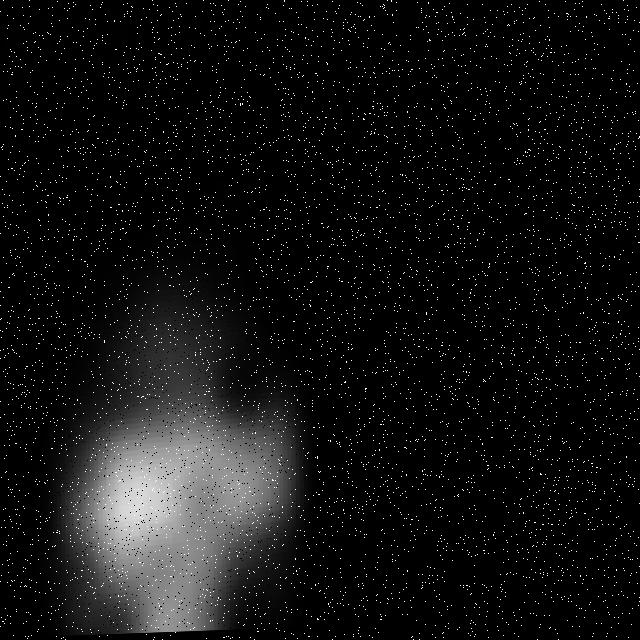person: (4, 243, 355, 640)
